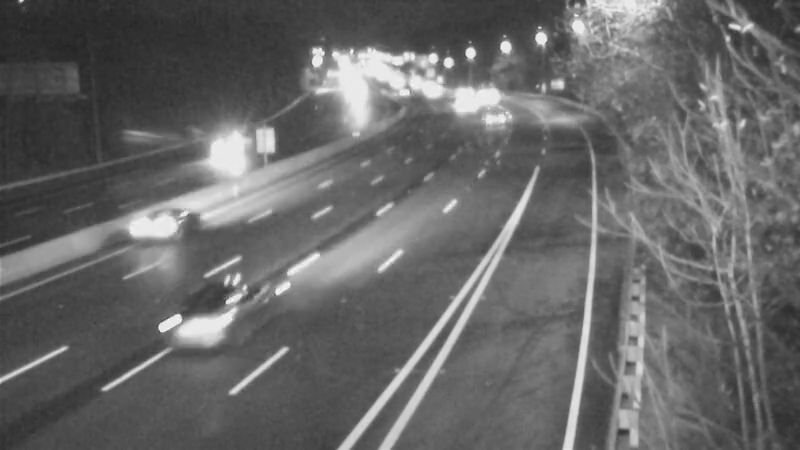vehicle: (141, 272, 251, 382), (120, 185, 200, 265), (184, 111, 264, 191), (435, 69, 485, 119), (458, 73, 508, 123), (436, 76, 486, 126), (470, 93, 520, 143)
